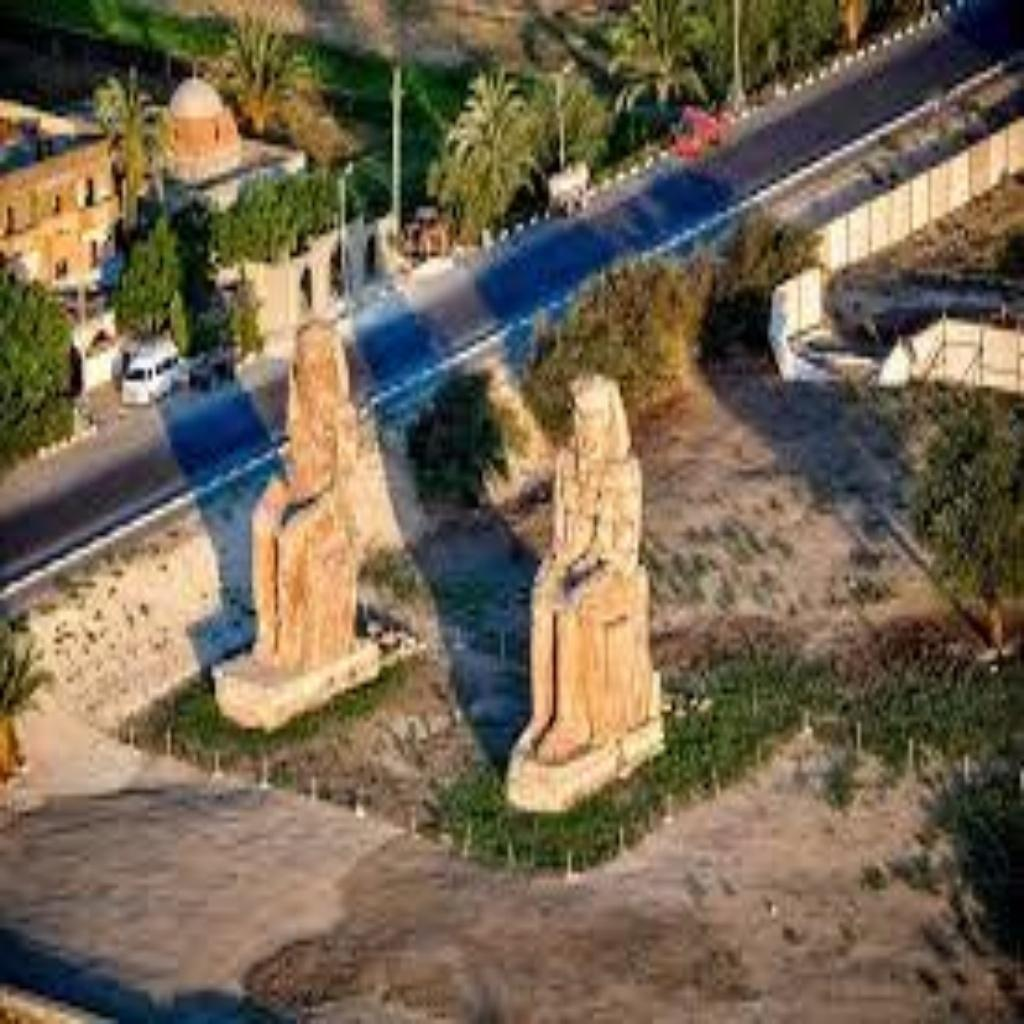Colossoi of Memnon: (494, 358, 676, 817)
